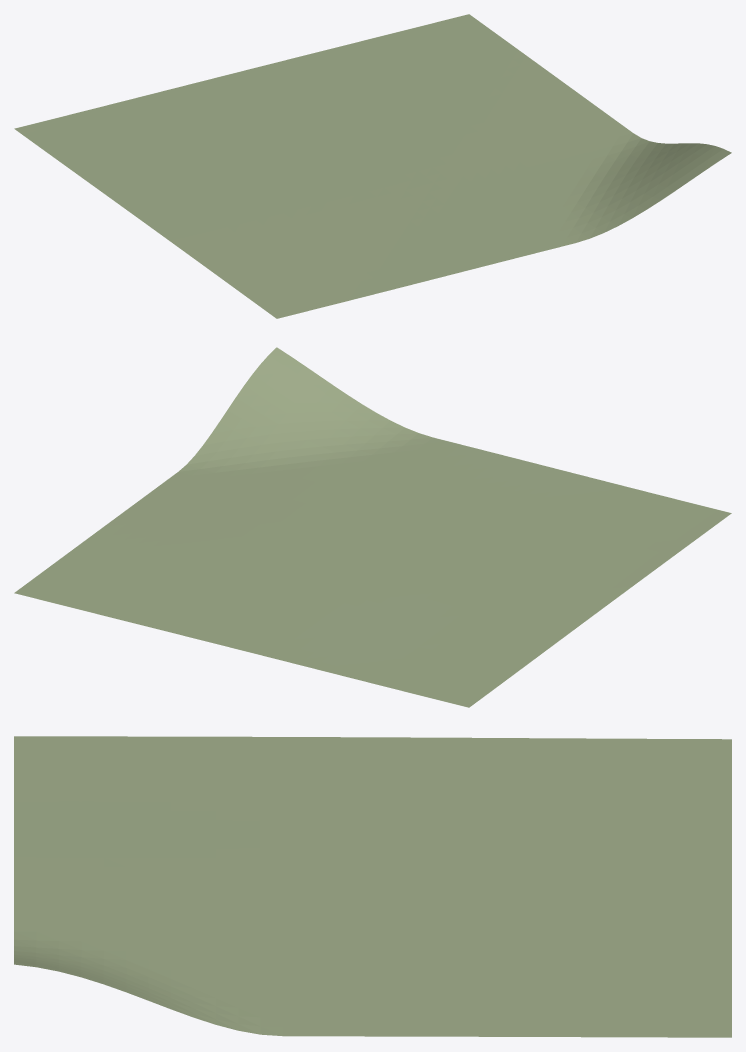
Rendered from desert-22-25.glb.
3 views of the same model, one above another, from view 1: azimuth 30°, elevation 25°; view 2: azimuth 150°, elevation 25°; view 3: azimuth 270°, elevation 25° (orthographic). The views are drawn at different scales.
Visible parts, largest first — view 1: desert-22-25; view 2: desert-22-25; view 3: desert-22-25.
Boxes of the visible parts, x1,y1,x2,y2 form: desert-22-25: (14,14,731,318); desert-22-25: (14,347,731,707); desert-22-25: (14,736,731,1037).
Bounding box in the file's own units: 512 × 61.41 × 512.
